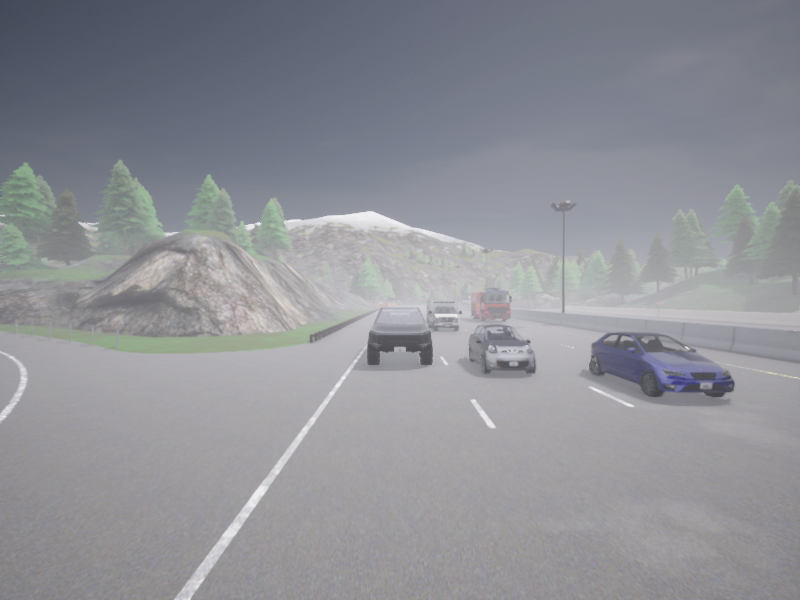vehicle: (590, 331, 734, 397), (367, 308, 432, 364), (468, 324, 535, 373), (471, 288, 511, 321), (426, 300, 461, 331), (463, 296, 470, 304), (460, 302, 466, 304), (460, 302, 461, 303)
